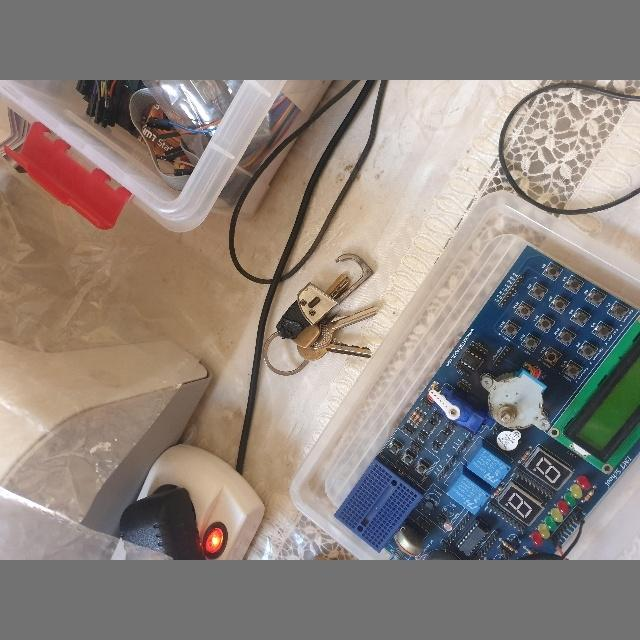Keys: (263, 253, 382, 375)
